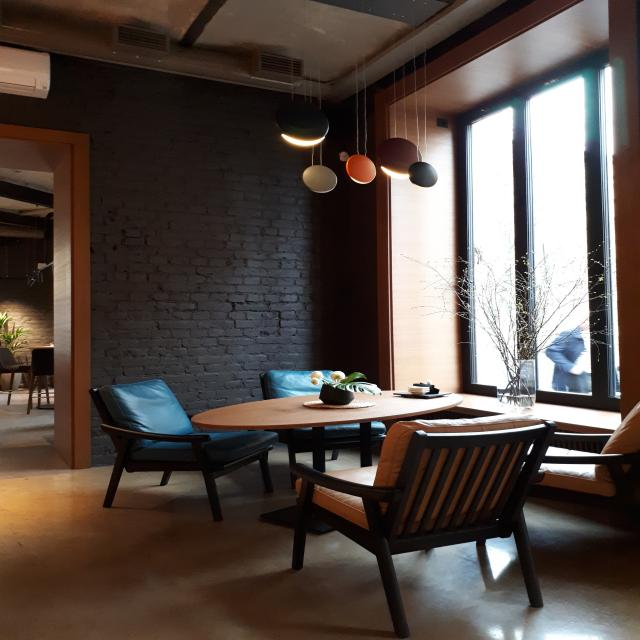chair: (322, 414, 541, 578), (242, 329, 458, 464), (450, 376, 640, 524), (94, 378, 278, 504)
table: (198, 376, 452, 432)
window: (458, 101, 632, 400)
